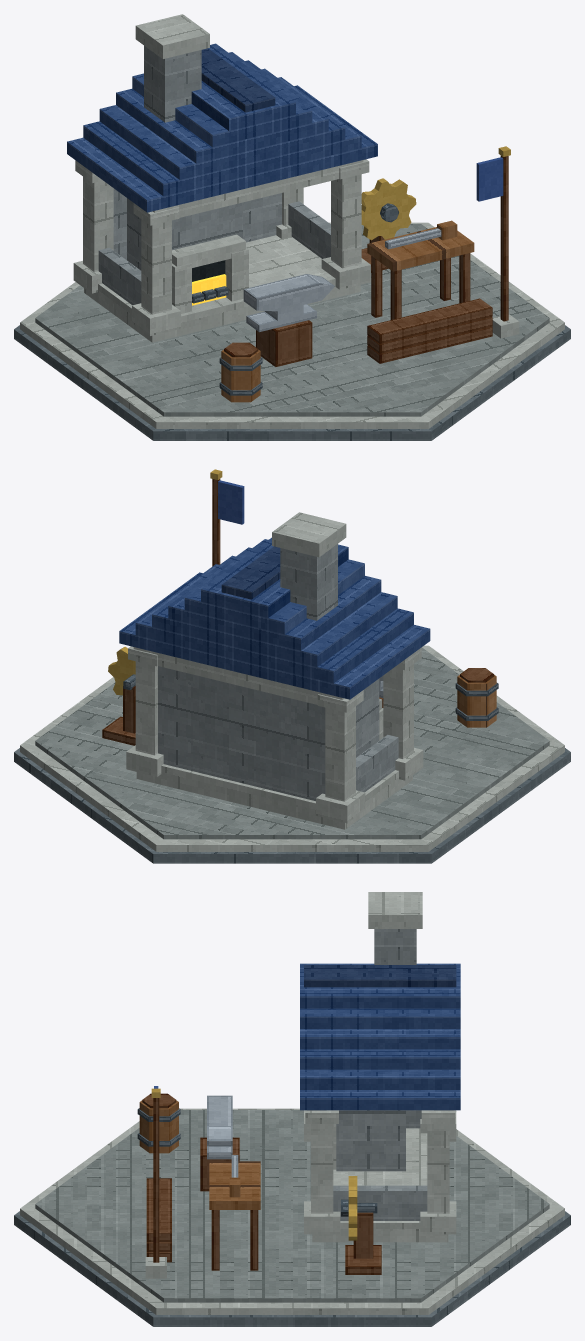
The model's file is workshop_hex_v1.glb.
3 views of the same model, one above another, from view 1: azimuth 30°, elevation 25°; view 2: azimuth 150°, elevation 25°; view 3: azimuth 270°, elevation 25° (orthographic).
Visible parts, largest first — view 1: Human_Workshop_Hex_V1_Foundation, Human_Workshop_Hex_V1_Roofs, Human_Workshop_Hex_V1_Structure, Human_Workshop_Hex_V1_Focus, Human_Workshop_Hex_V1_Details, Human_Workshop_Hex_V1_Hall, Human_Workshop_Hex_V1_Faction; view 2: Human_Workshop_Hex_V1_Foundation, Human_Workshop_Hex_V1_Roofs, Human_Workshop_Hex_V1_Hall, Human_Workshop_Hex_V1_Structure, Human_Workshop_Hex_V1_Focus, Human_Workshop_Hex_V1_Details, Human_Workshop_Hex_V1_Faction; view 3: Human_Workshop_Hex_V1_Foundation, Human_Workshop_Hex_V1_Roofs, Human_Workshop_Hex_V1_Focus, Human_Workshop_Hex_V1_Details, Human_Workshop_Hex_V1_Structure, Human_Workshop_Hex_V1_Hall.
Part boxes in pixels (<box>): Human_Workshop_Hex_V1_Foundation: <box>14,222,570,440</box>; Human_Workshop_Hex_V1_Roofs: <box>67,43,377,212</box>; Human_Workshop_Hex_V1_Structure: <box>73,159,370,335</box>; Human_Workshop_Hex_V1_Focus: <box>127,14,416,366</box>; Human_Workshop_Hex_V1_Details: <box>192,146,519,402</box>; Human_Workshop_Hex_V1_Hall: <box>84,188,360,342</box>; Human_Workshop_Hex_V1_Faction: <box>476,157,503,201</box>; Human_Workshop_Hex_V1_Foundation: <box>14,645,570,863</box>; Human_Workshop_Hex_V1_Roofs: <box>119,537,430,699</box>; Human_Workshop_Hex_V1_Hall: <box>136,666,412,829</box>; Human_Workshop_Hex_V1_Structure: <box>126,646,423,822</box>; Human_Workshop_Hex_V1_Focus: <box>108,512,383,757</box>; Human_Workshop_Hex_V1_Details: <box>102,469,498,745</box>; Human_Workshop_Hex_V1_Faction: <box>218,480,244,524</box>; Human_Workshop_Hex_V1_Foundation: <box>14,1108,570,1326</box>; Human_Workshop_Hex_V1_Roofs: <box>300,963,460,1110</box>; Human_Workshop_Hex_V1_Focus: <box>200,892,422,1240</box>; Human_Workshop_Hex_V1_Details: <box>137,1088,381,1278</box>; Human_Workshop_Hex_V1_Structure: <box>304,1110,456,1234</box>; Human_Workshop_Hex_V1_Hall: <box>312,1110,448,1242</box>.
Bounding box in the file's own units: 1.59 × 1.05 × 1.84.
Materials: 1 (1 with a texture image).
